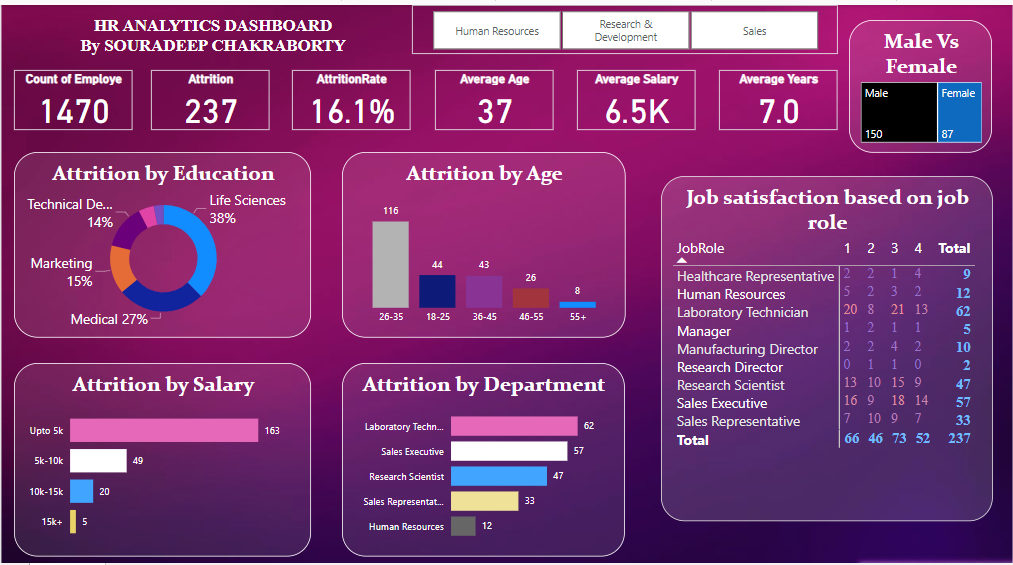

The dashboard page shown, as its layout file describes it:
{"tool":"powerbi","page":{"name":"Page 1","canvas":[1280,720],"ordinal":0},"visuals":[{"type":"card","title":"Count of Employe","fields":{"Values":["CountNonNull(HR_Analytics.EmpID)"]},"box":[16.8,82.3,149.5,75.6],"z":0},{"type":"card","title":"Attrition","fields":{"Values":["Sum(HR_Analytics.AttritionCount)"]},"box":[189.8,82.3,149.5,75.6],"z":1000},{"type":"card","title":"Average Age","fields":{"Values":["Avg(HR_Analytics.Age)"]},"box":[549.3,82.3,149.5,75.6],"z":2000},{"type":"card","title":"AttritionRate","fields":{"Values":["HR_Analytics.AttritionRate"]},"box":[367.9,82.3,149.5,75.6],"z":3000},{"type":"card","title":"Average Salary","fields":{"Values":["Avg(HR_Analytics.MonthlyIncome)"]},"box":[729,82.3,149.5,75.6],"z":4000},{"type":"card","title":"Average Years","fields":{"Values":["Avg(HR_Analytics.YearsAtCompany)"]},"box":[908.8,82.3,149.5,75.6],"z":5000},{"type":"donutChart","title":"Attrition by Education","fields":{"Category":["HR_Analytics.EducationField"],"Y":["Sum(HR_Analytics.AttritionCount)"]},"box":[16.8,186.5,376.3,235.2],"z":6000},{"type":"columnChart","title":"Attrition by Age","fields":{"Category":["HR_Analytics.AgeGroup"],"Y":["Sum(HR_Analytics.AttritionCount)"]},"box":[431.7,186.5,359.5,235.2],"z":7000},{"type":"pivotTable","title":"Job satisfaction based on job role","fields":{"Rows":["HR_Analytics.JobRole"],"Columns":["HR_Analytics.JobSatisfaction"],"Values":["Sum(HR_Analytics.AttritionCount)"]},"box":[834.9,250.3,419.9,341],"z":8000},{"type":"barChart","title":"Attrition by Salary","fields":{"Category":["HR_Analytics.SalarySlab"],"Y":["Sum(HR_Analytics.AttritionCount)"]},"box":[16.8,453.5,376.3,245.2],"z":9000},{"type":"barChart","title":"Attrition by Department ","fields":{"Category":["HR_Analytics.JobRole"],"Y":["Sum(HR_Analytics.AttritionCount)"]},"box":[431.7,453.5,357.8,245.2],"z":10000},{"type":"slicer","fields":{"Values":["HR_Analytics.Department"]},"box":[520.7,0,539.2,62.2],"z":11000},{"type":"treemap","title":"Male Vs Female","fields":{"Group":["HR_Analytics.Gender"],"Values":["Sum(HR_Analytics.AttritionCount)"]},"box":[1073.4,18.5,181.4,211.7],"z":12000},{"type":"textbox","box":[16.8,18.5,500.6,43.7],"z":12001}]}

Visuals, with their boxes in screenshot pixels (x1, y1, x2, y2), scaled from the page's 1280x720 canvas onto the 1013x565 screenshot:
"Count of Employe" card: Rect(13, 65, 132, 124)
"Attrition" card: Rect(150, 65, 269, 124)
"Average Age" card: Rect(435, 65, 553, 124)
"AttritionRate" card: Rect(291, 65, 409, 124)
"Average Salary" card: Rect(577, 65, 695, 124)
"Average Years" card: Rect(719, 65, 838, 124)
"Attrition by Education" donutChart: Rect(13, 146, 311, 331)
"Attrition by Age" columnChart: Rect(342, 146, 626, 331)
"Job satisfaction based on job role" pivotTable: Rect(661, 196, 993, 464)
"Attrition by Salary" barChart: Rect(13, 356, 311, 548)
"Attrition by Department " barChart: Rect(342, 356, 625, 548)
slicer - HR_Analytics.Department: Rect(412, 0, 839, 49)
"Male Vs Female" treemap: Rect(849, 15, 993, 181)
textbox: Rect(13, 15, 409, 49)
